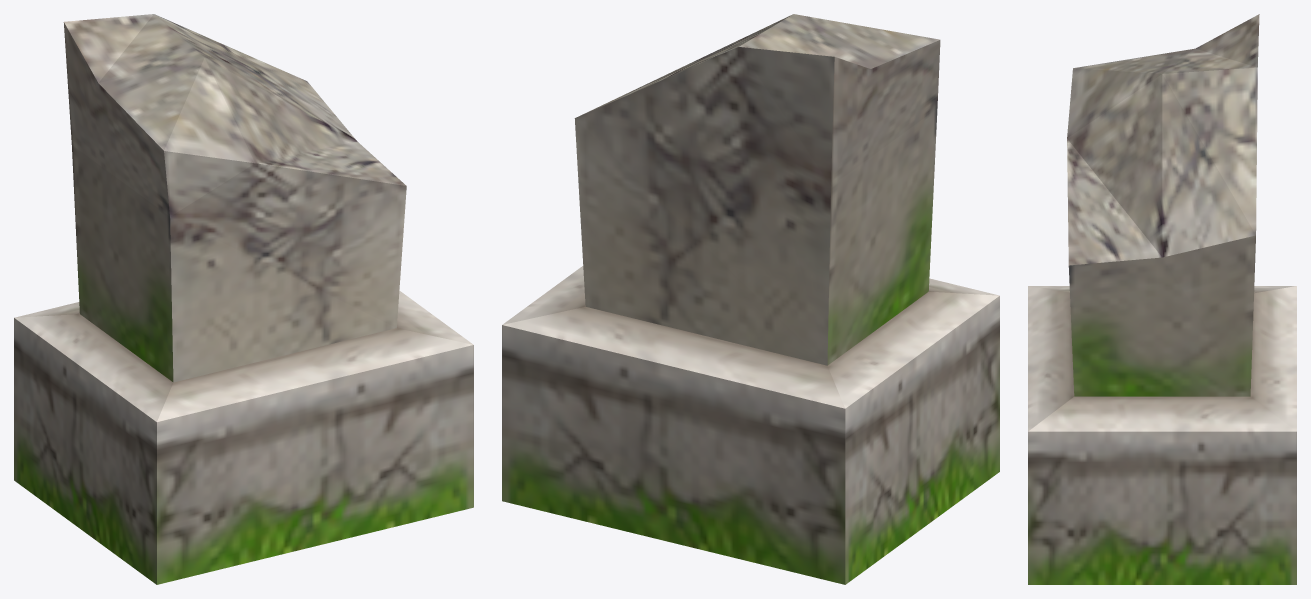
Rendered from F02_pillar02_b.FBX.
The picture shows the model from 3 angles, left to right: view 1: azimuth 30°, elevation 25°; view 2: azimuth 150°, elevation 25°; view 3: azimuth 270°, elevation 25°; orthographic projection. The views are drawn at different scales.
Parts seen in each view (by area): view 1: F02_pillar02_b; view 2: F02_pillar02_b; view 3: F02_pillar02_b.
Part boxes in pixels (bbox=[...]): F02_pillar02_b: bbox=[14, 14, 473, 584]; F02_pillar02_b: bbox=[502, 14, 999, 584]; F02_pillar02_b: bbox=[1028, 14, 1296, 584].
Bounding box in the file's own units: 84.47 × 119 × 65.87.
